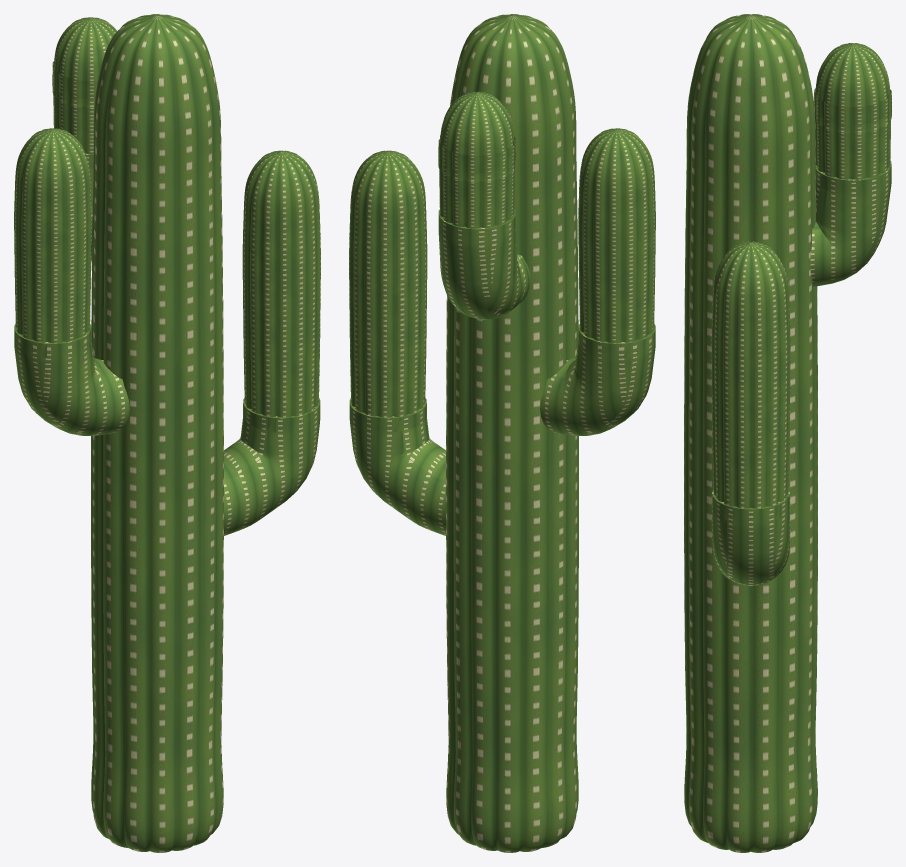
Rendered from Saguaro.glb.
3 views of the same model, side by side, from view 1: azimuth 30°, elevation 25°; view 2: azimuth 150°, elevation 25°; view 3: azimuth 270°, elevation 25° (orthographic).
Visible parts, largest first — view 1: Saguaro_Cactus; view 2: Saguaro_Cactus; view 3: Saguaro_Cactus.
Boxes of the visible parts, x1=… form: Saguaro_Cactus: x1=14, y1=14, x2=320, y2=852; Saguaro_Cactus: x1=349, y1=14, x2=655, y2=852; Saguaro_Cactus: x1=684, y1=14, x2=891, y2=852.
Bounding box in the file's own units: 1.19 × 3.14 × 0.7234.
1 material, 1 textured.
